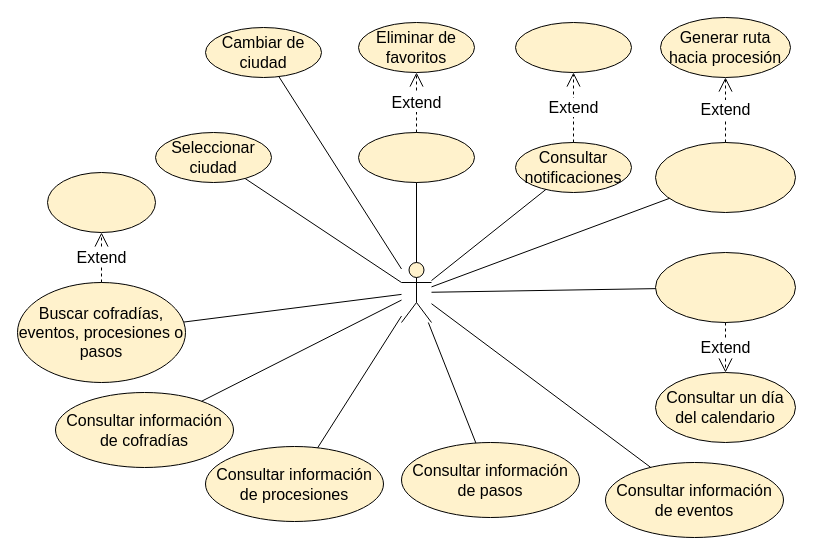
The diagram is 813 pixels wide and 555 high, and some of its shapes have lost their labels. The shapes that lost their labels are listed below. From the top down, each one's centre as x and y in pixels, then its label:
the point at 573,47: Descartar notificaciones
the point at 416,157: Añadir a favoritos
the point at 725,177: Visualizar procesión en tiempo real
the point at 101,202: Filtrar elementos
the point at 416,292: Ciudadano
the point at 725,287: Consultar el calendario
